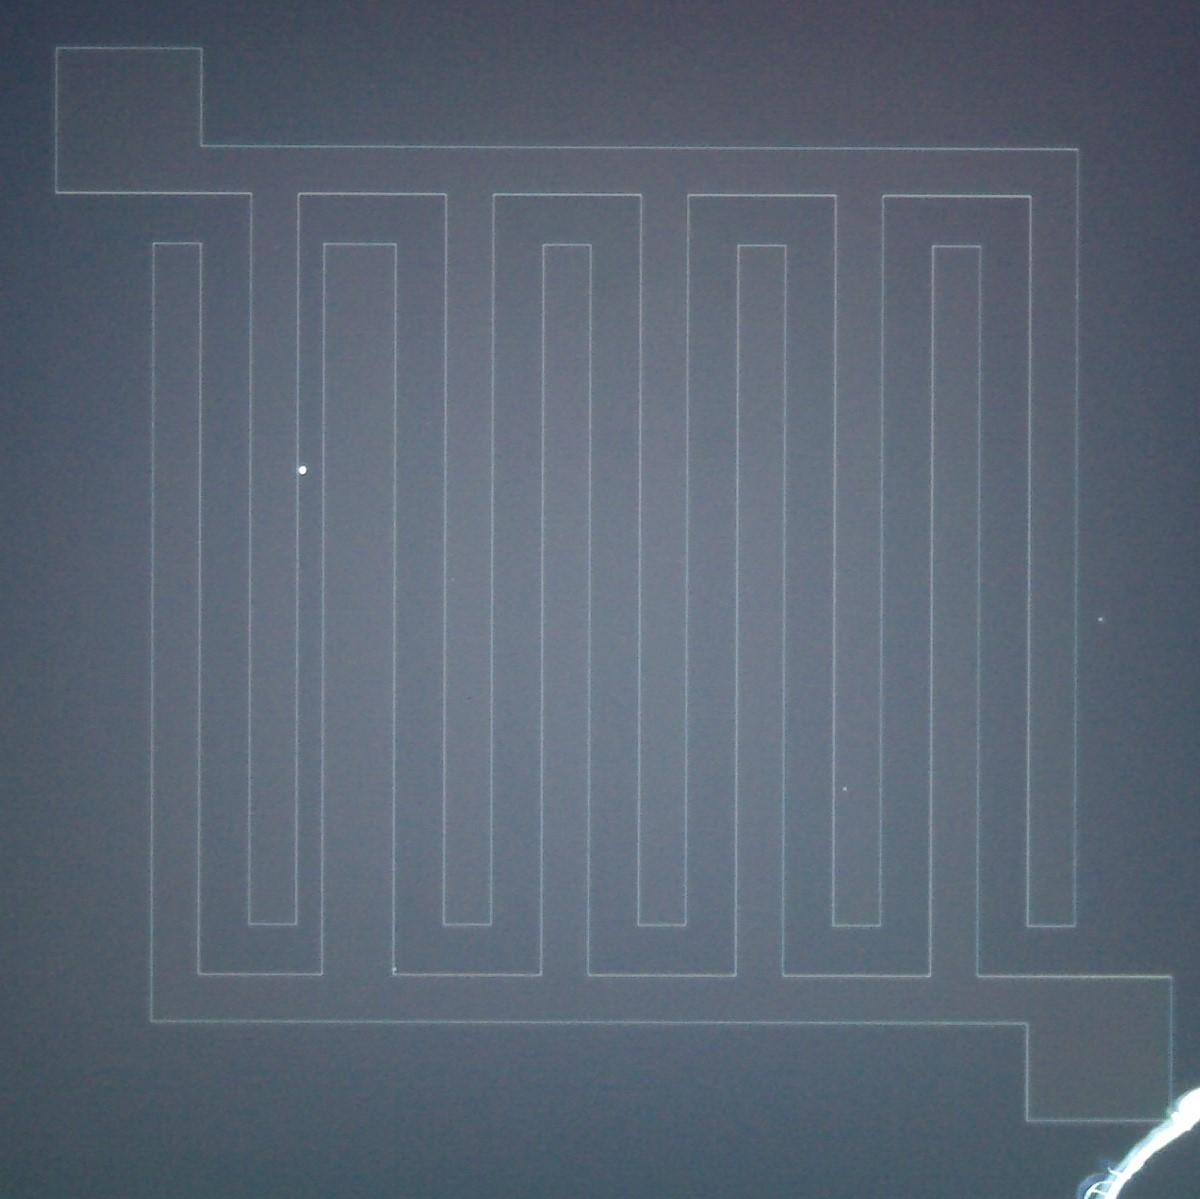B_point: (296, 462, 310, 478)
foreign: (1073, 1082, 1200, 1199)
s_point: (838, 782, 851, 796), (389, 962, 402, 976), (447, 572, 460, 586), (1095, 613, 1107, 626)
width: (217, 228, 507, 964)
